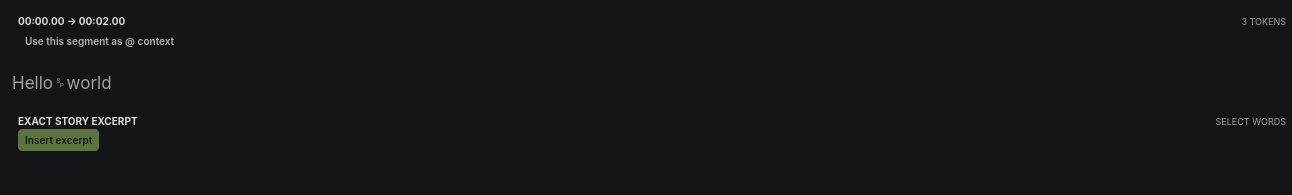
Test case: CreatorTranscriptExcerpt › blocks a selection that cuts through a current correction
What coordinates should you click on to do the following:
click the button named "Select token 2 · space"
I would click on:
 (60, 83)
Its box is 53,67 -> 67,100.
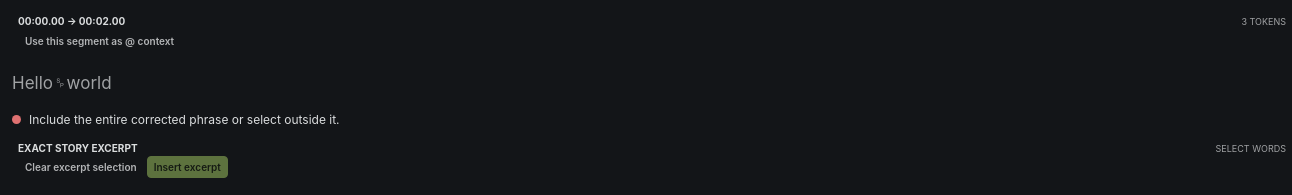
Check: the button "Insert excerpt" is disabled, box 147,156 -> 228,178
Check: the text "Include the entire corrected phrase or select outside it." is shown, box 29,112 -> 340,127
